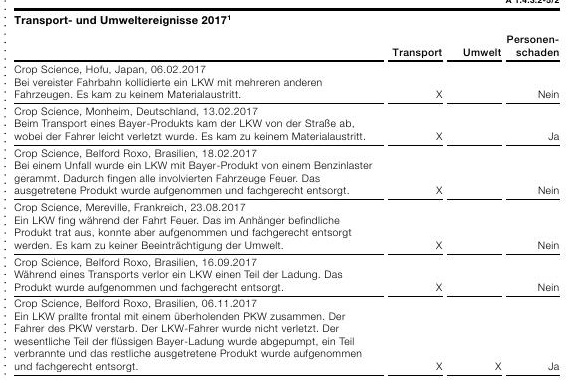table: (0, 0, 571, 384)
